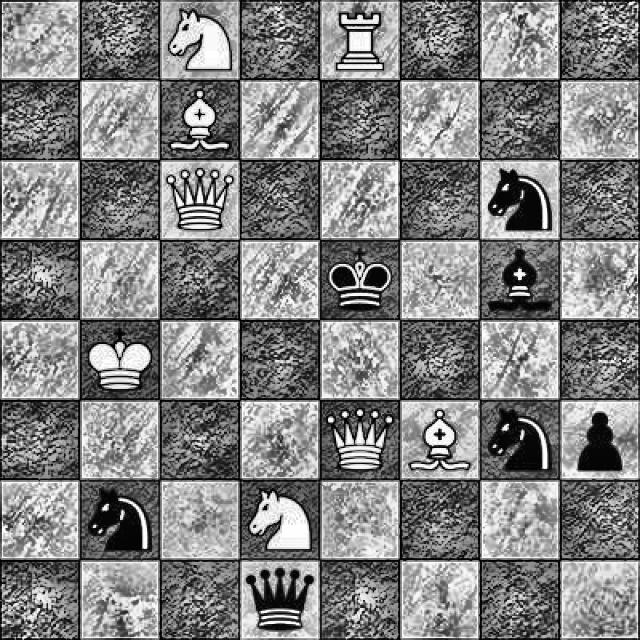Black Knight: (78, 481, 157, 555), (483, 402, 558, 477), (483, 162, 557, 235)
black bishop: (483, 246, 559, 315)
black king: (325, 236, 393, 316)
black pawn: (570, 404, 628, 473)
black queen: (240, 566, 317, 636)
white bishop: (159, 84, 237, 160), (406, 406, 475, 474)
white king: (85, 324, 153, 394)
white queen: (163, 161, 240, 247), (323, 406, 395, 474)
white rook: (327, 6, 393, 77)
whiteknight: (243, 483, 316, 558), (163, 0, 234, 77)
